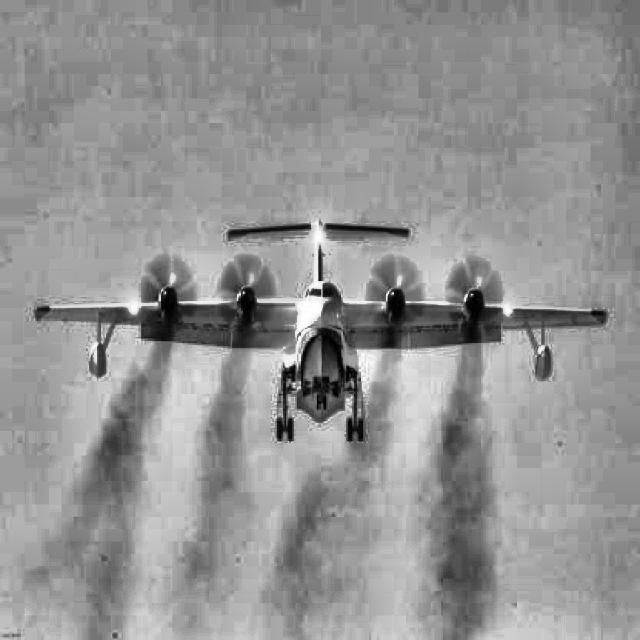AG600: (33, 218, 607, 440)
